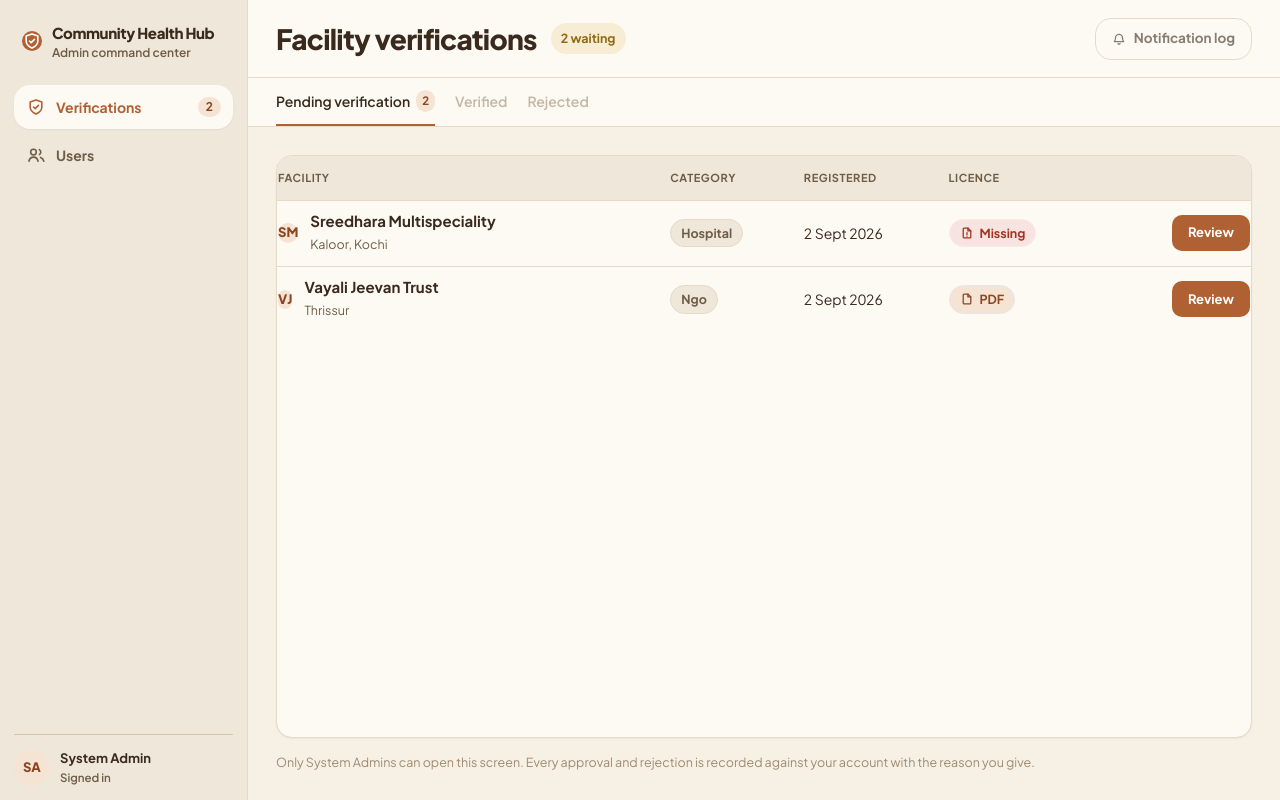
Test: PendingVerificationsPage › requires a rejection reason before confirming a reject
The image size is (1280, 800).
Expected: the text "Sreedhara Multispeciality" is shown, [310,211,496,231]
Click the button "Review" in the row of "SM".
click(1211, 233)  # box [1172,215,1250,251]
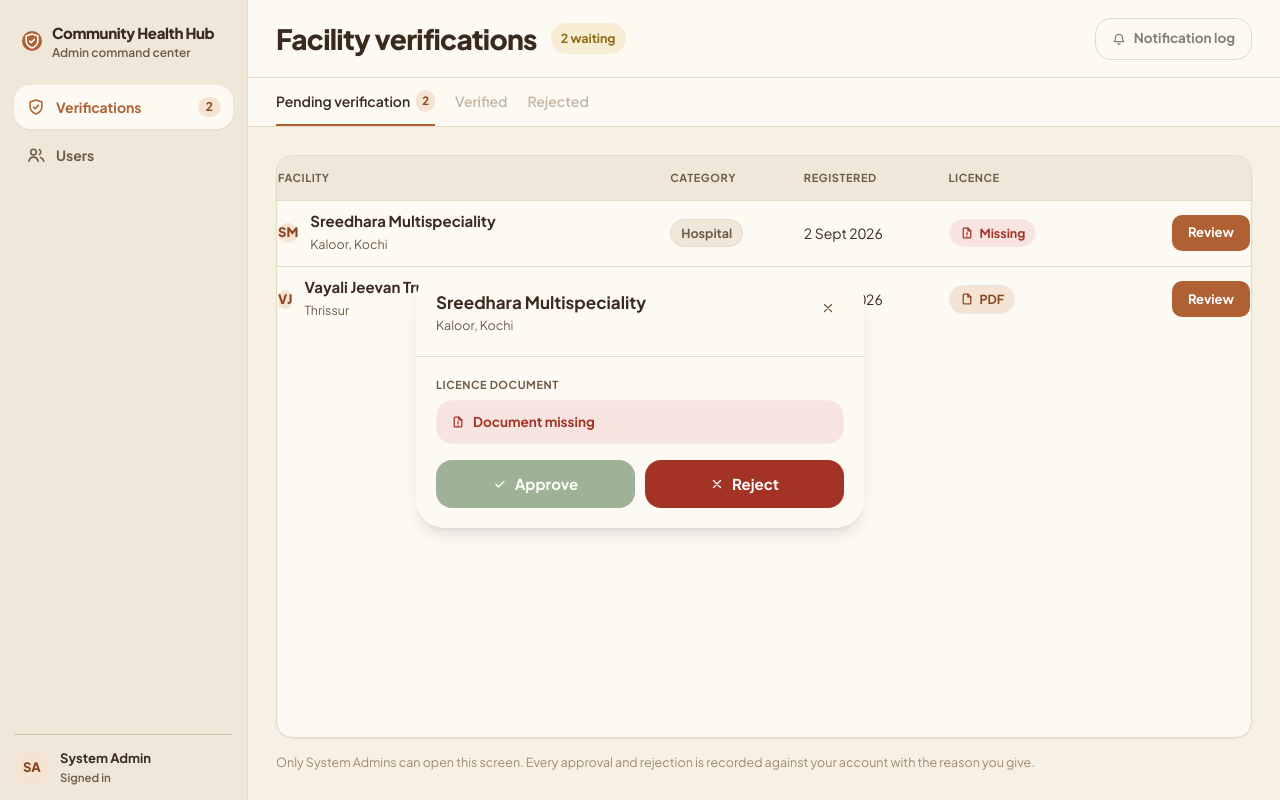
Click the button "Reject".
click(744, 484)  # box [645,460,844,508]
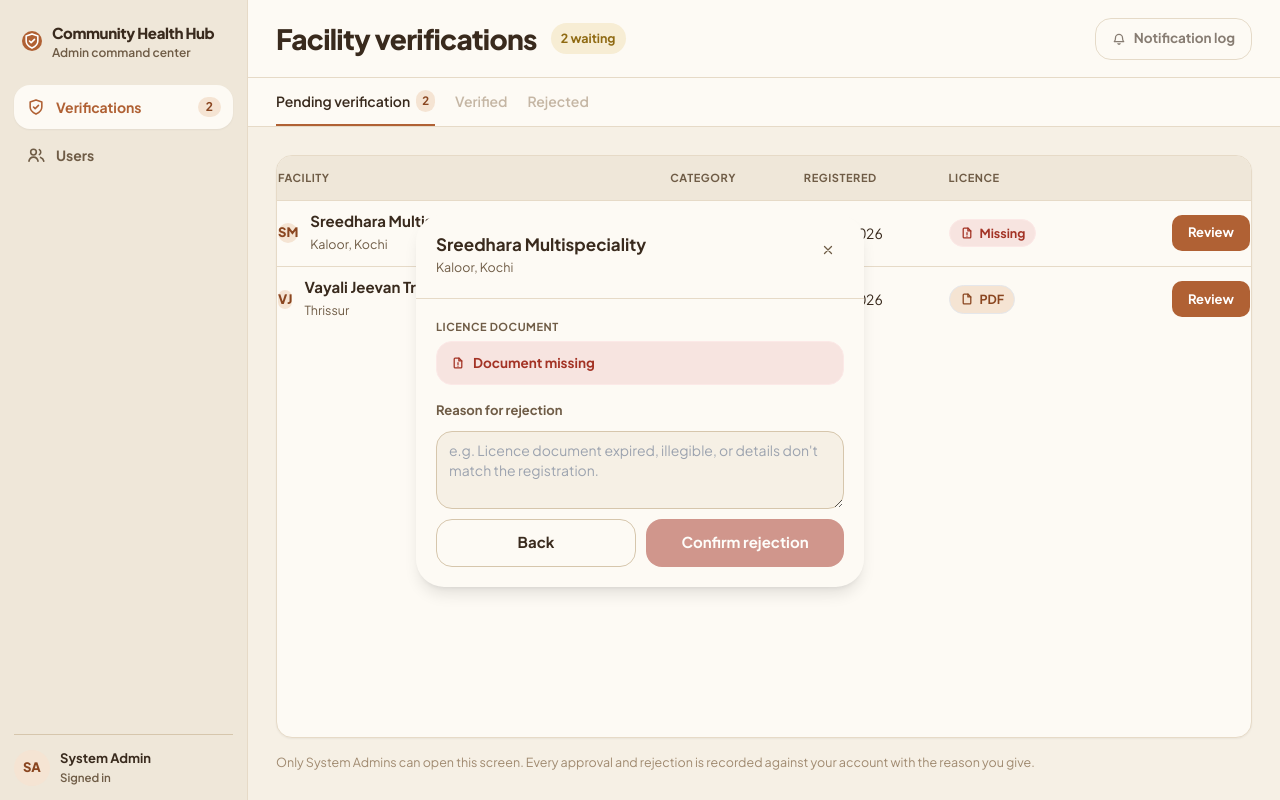
Now the button "Confirm rejection" is disabled, box [646,518,844,566]
Replace the text in the text box labelled "Reason for rejection" with "Licence expired" at x=640, y=470, box [436,430,844,508]
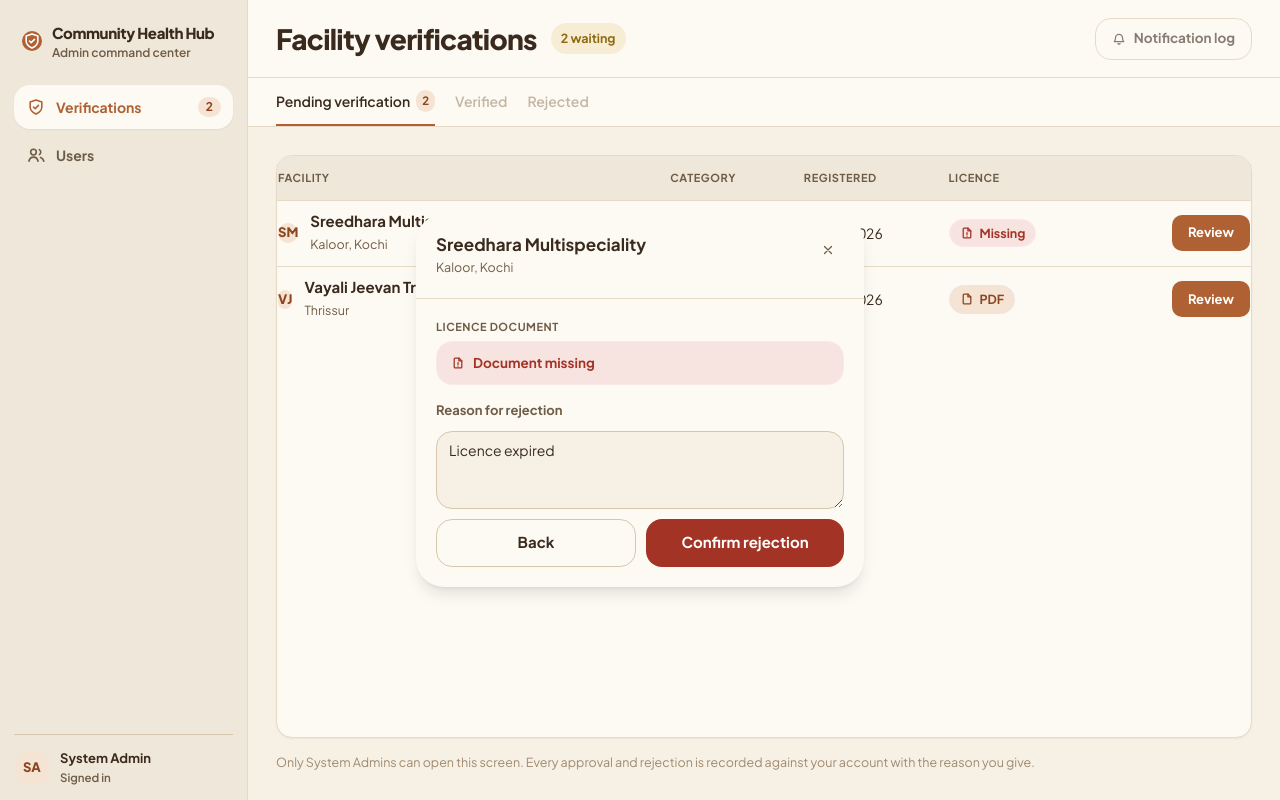
Now the button "Confirm rejection" is enabled, box [646,518,844,566]
